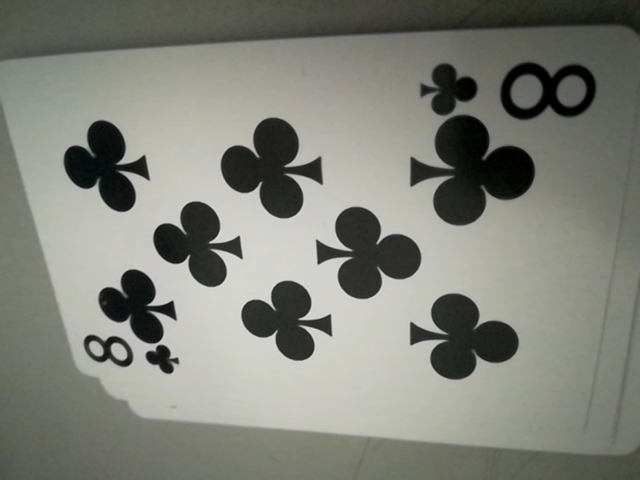mh 8: (418, 49, 594, 126), (75, 328, 173, 382)
